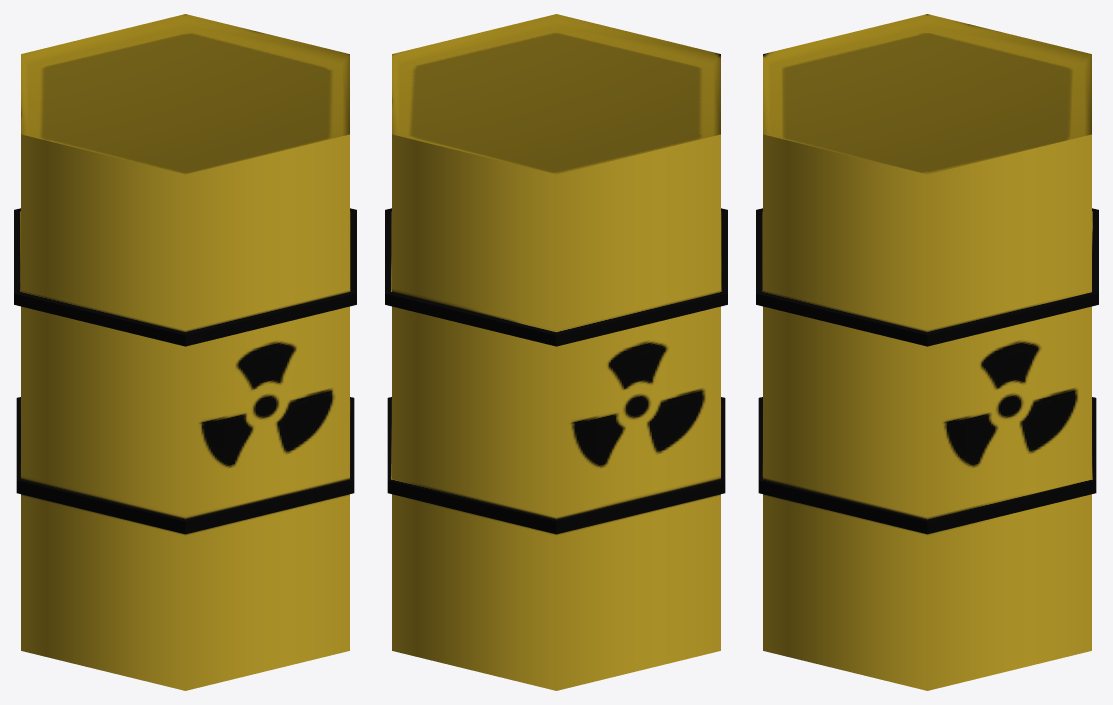
Rendered from Trash_Barrel.fbx.
3 renders of one model, left to right at view 1: azimuth 30°, elevation 25°; view 2: azimuth 150°, elevation 25°; view 3: azimuth 270°, elevation 25°, orthographic.
Visible parts, largest first — view 1: OilDrum; view 2: OilDrum; view 3: OilDrum.
Boxes of the visible parts, left/top/right/bottom form: OilDrum: left=14, top=14, right=356, bottom=690; OilDrum: left=385, top=14, right=727, bottom=690; OilDrum: left=756, top=14, right=1098, bottom=690.
Size of the model in its own units: 8.34 by 12 by 7.22.
